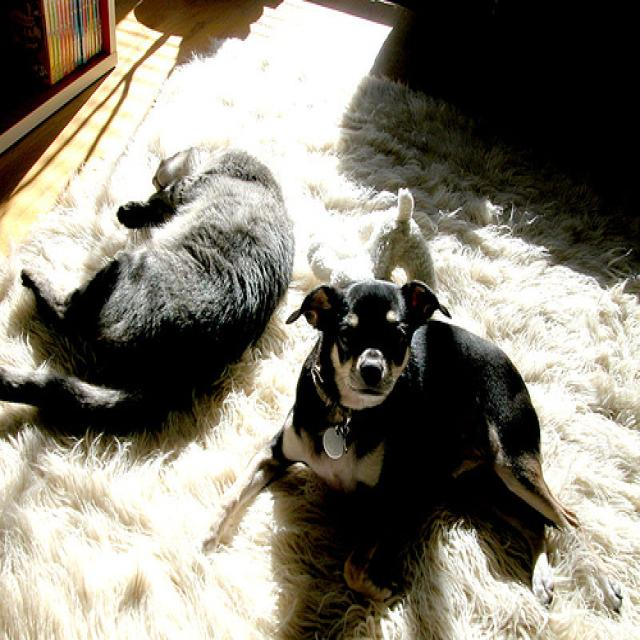cat: (4, 144, 296, 421)
dog: (207, 277, 617, 607)
